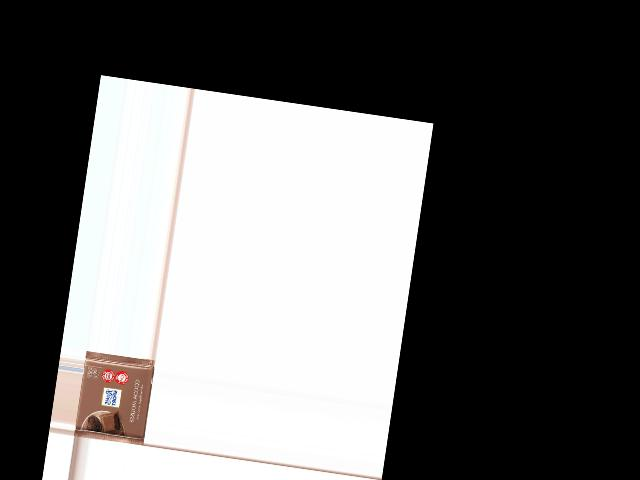chocolate: (74, 352, 156, 446)
